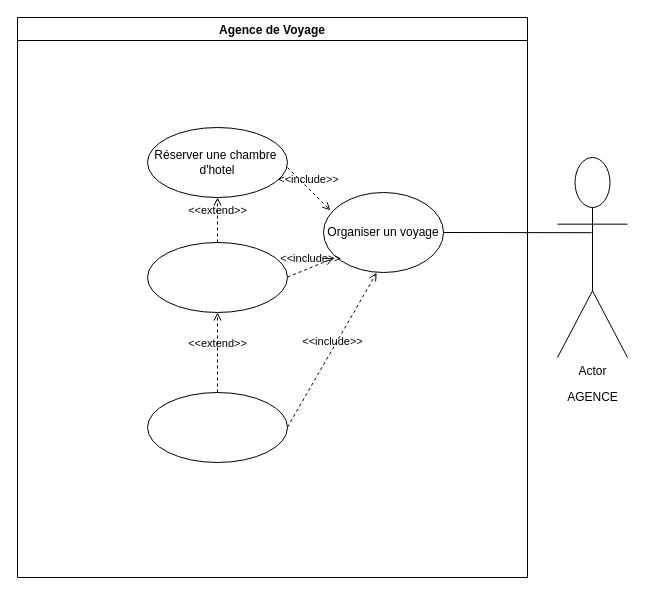
The diagram is 645 pixels wide and 595 high, and some of its shapes have lost their labels. Here are the shapes that lost their labels. From the top down, the centre of each, then its label:
At [217,277]: "Réserver un taxi".
At [217,427]: "Réserver un train".
